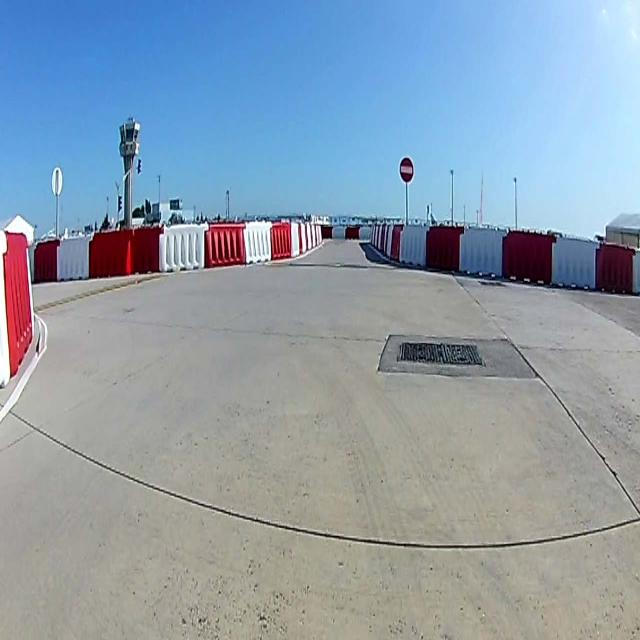girisyok: (398, 154, 415, 183)
